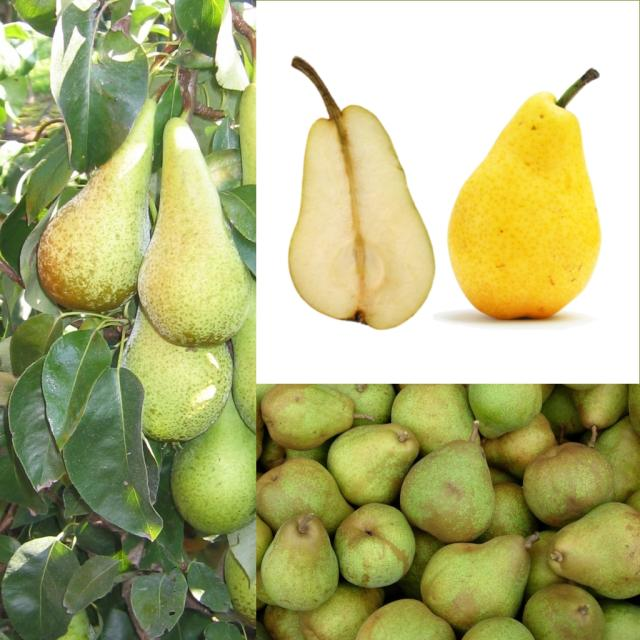pera: (272, 48, 439, 331), (437, 62, 606, 330)
